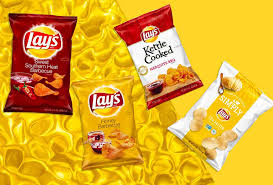lays-small: (9, 13, 71, 115), (77, 82, 144, 167)
